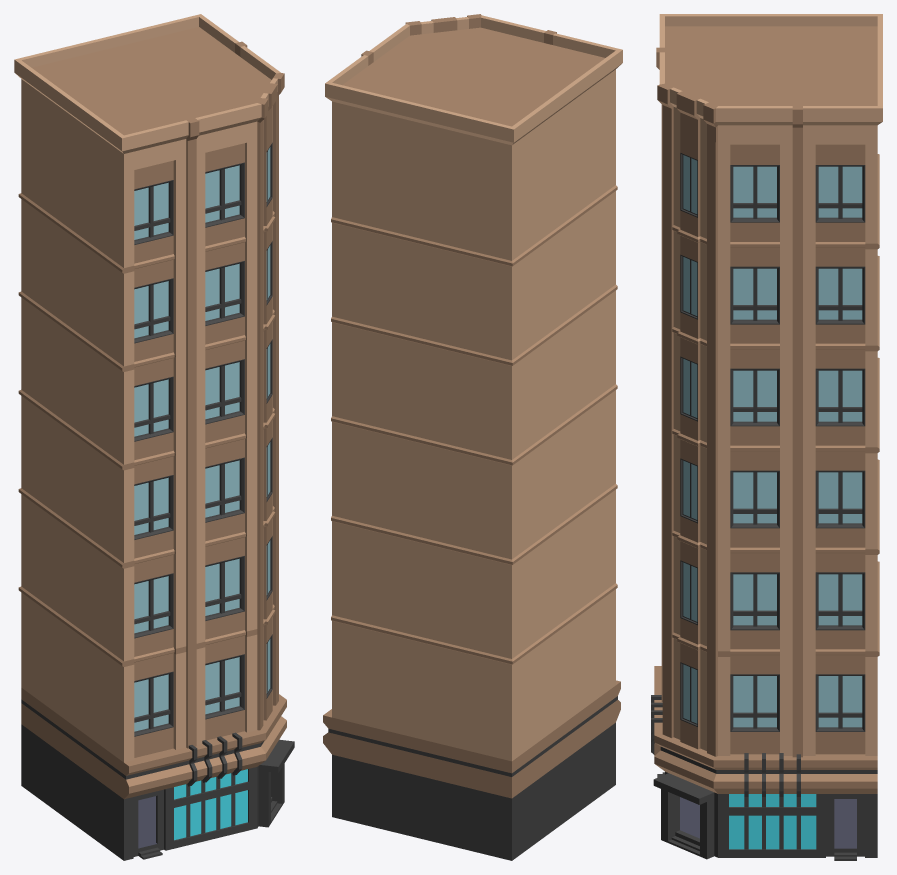
File: SM_Buildings_House_08_V3.fbx
The picture shows the model from 3 angles, left to right: view 1: azimuth 30°, elevation 25°; view 2: azimuth 150°, elevation 25°; view 3: azimuth 270°, elevation 25°; orthographic projection. The views are drawn at different scales.
Visible parts, largest first — view 1: SM_Buildings_House_08_V3; view 2: SM_Buildings_House_08_V3; view 3: SM_Buildings_House_08_V3.
Boxes of the visible parts, x1,y1,x2,y2 form: SM_Buildings_House_08_V3: (14,14,294,860); SM_Buildings_House_08_V3: (323,14,622,860); SM_Buildings_House_08_V3: (651,14,882,860).
Size of the model in its own units: 10.9 by 39 by 10.9.
